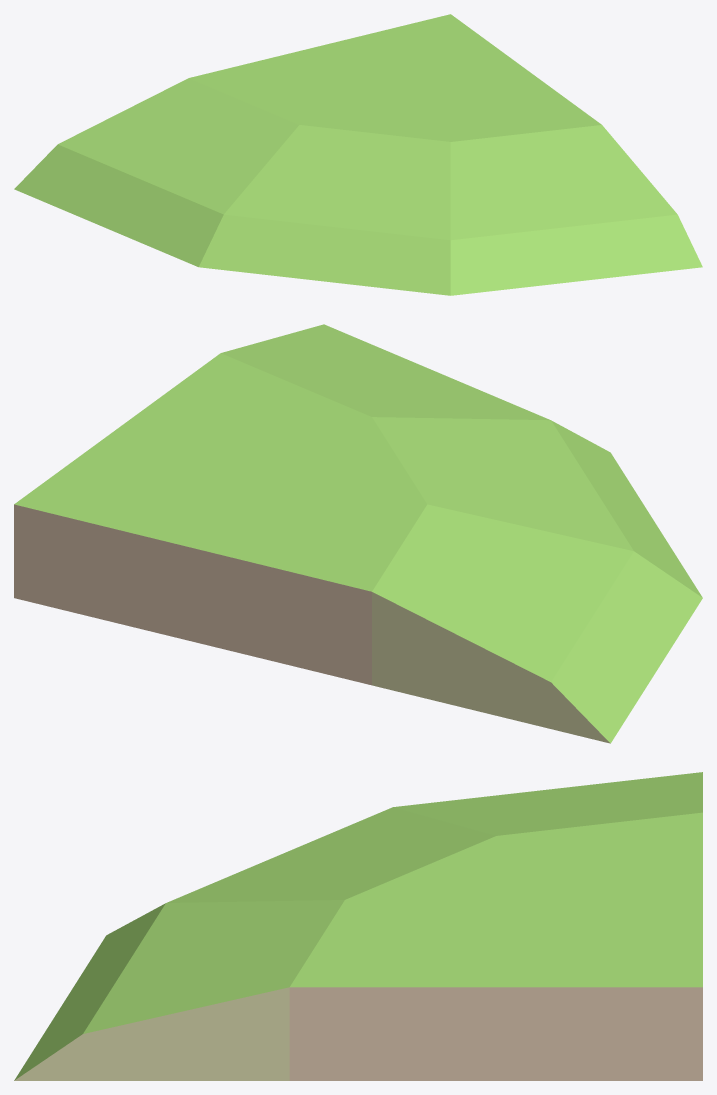
File: Grass_Carpet_Curve_Outer_2x2.glb
The picture shows the model from 3 angles, top to bottom: view 1: azimuth 30°, elevation 25°; view 2: azimuth 150°, elevation 25°; view 3: azimuth 270°, elevation 25°; orthographic projection. The views are drawn at different scales.
Visible parts, largest first — view 1: Grass_Carpet_Curve_Outer_2x2; view 2: Grass_Carpet_Curve_Outer_2x2; view 3: Grass_Carpet_Curve_Outer_2x2.
Boxes of the visible parts, left/top/right/bottom form: Grass_Carpet_Curve_Outer_2x2: left=14, top=14, right=702, bottom=295; Grass_Carpet_Curve_Outer_2x2: left=14, top=324, right=702, bottom=743; Grass_Carpet_Curve_Outer_2x2: left=14, top=772, right=702, bottom=1080.
Size of the model in its own units: 167 by 25 by 167.
